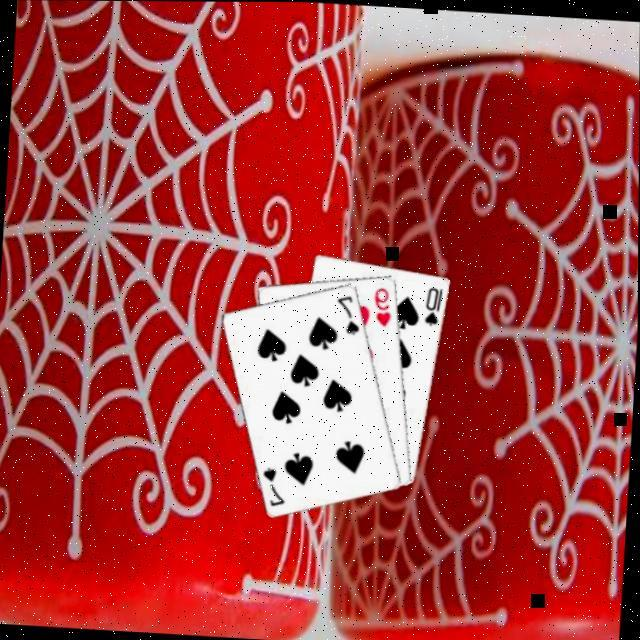10S: (420, 284, 444, 328)
7S: (258, 464, 288, 509), (332, 292, 362, 336)
9H: (369, 284, 393, 330)
